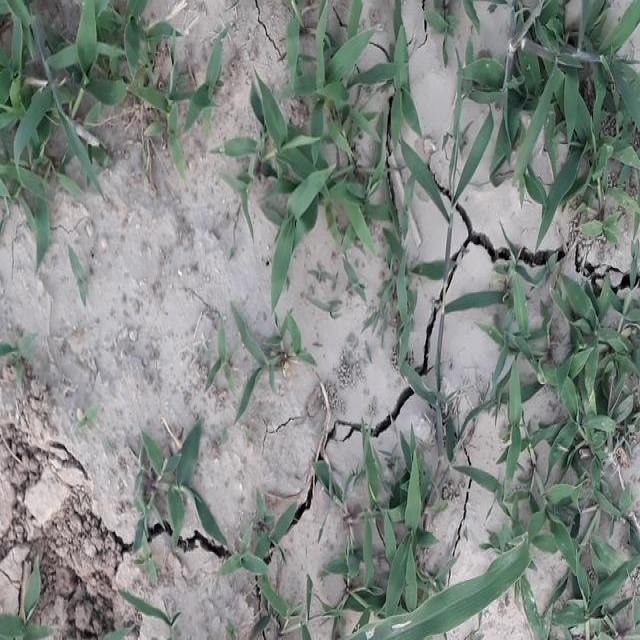weed: (238, 0, 639, 222), (506, 254, 640, 640), (0, 0, 138, 217), (326, 439, 474, 640)
